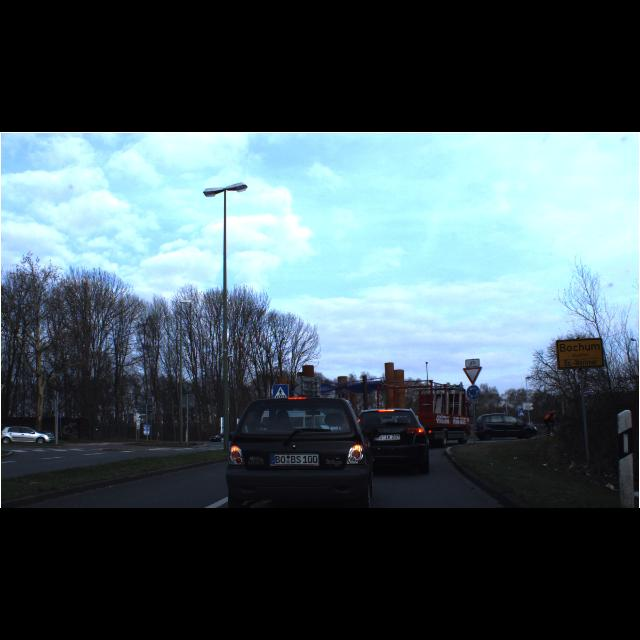mandatory: (466, 386, 480, 400)
other: (462, 366, 482, 386)
